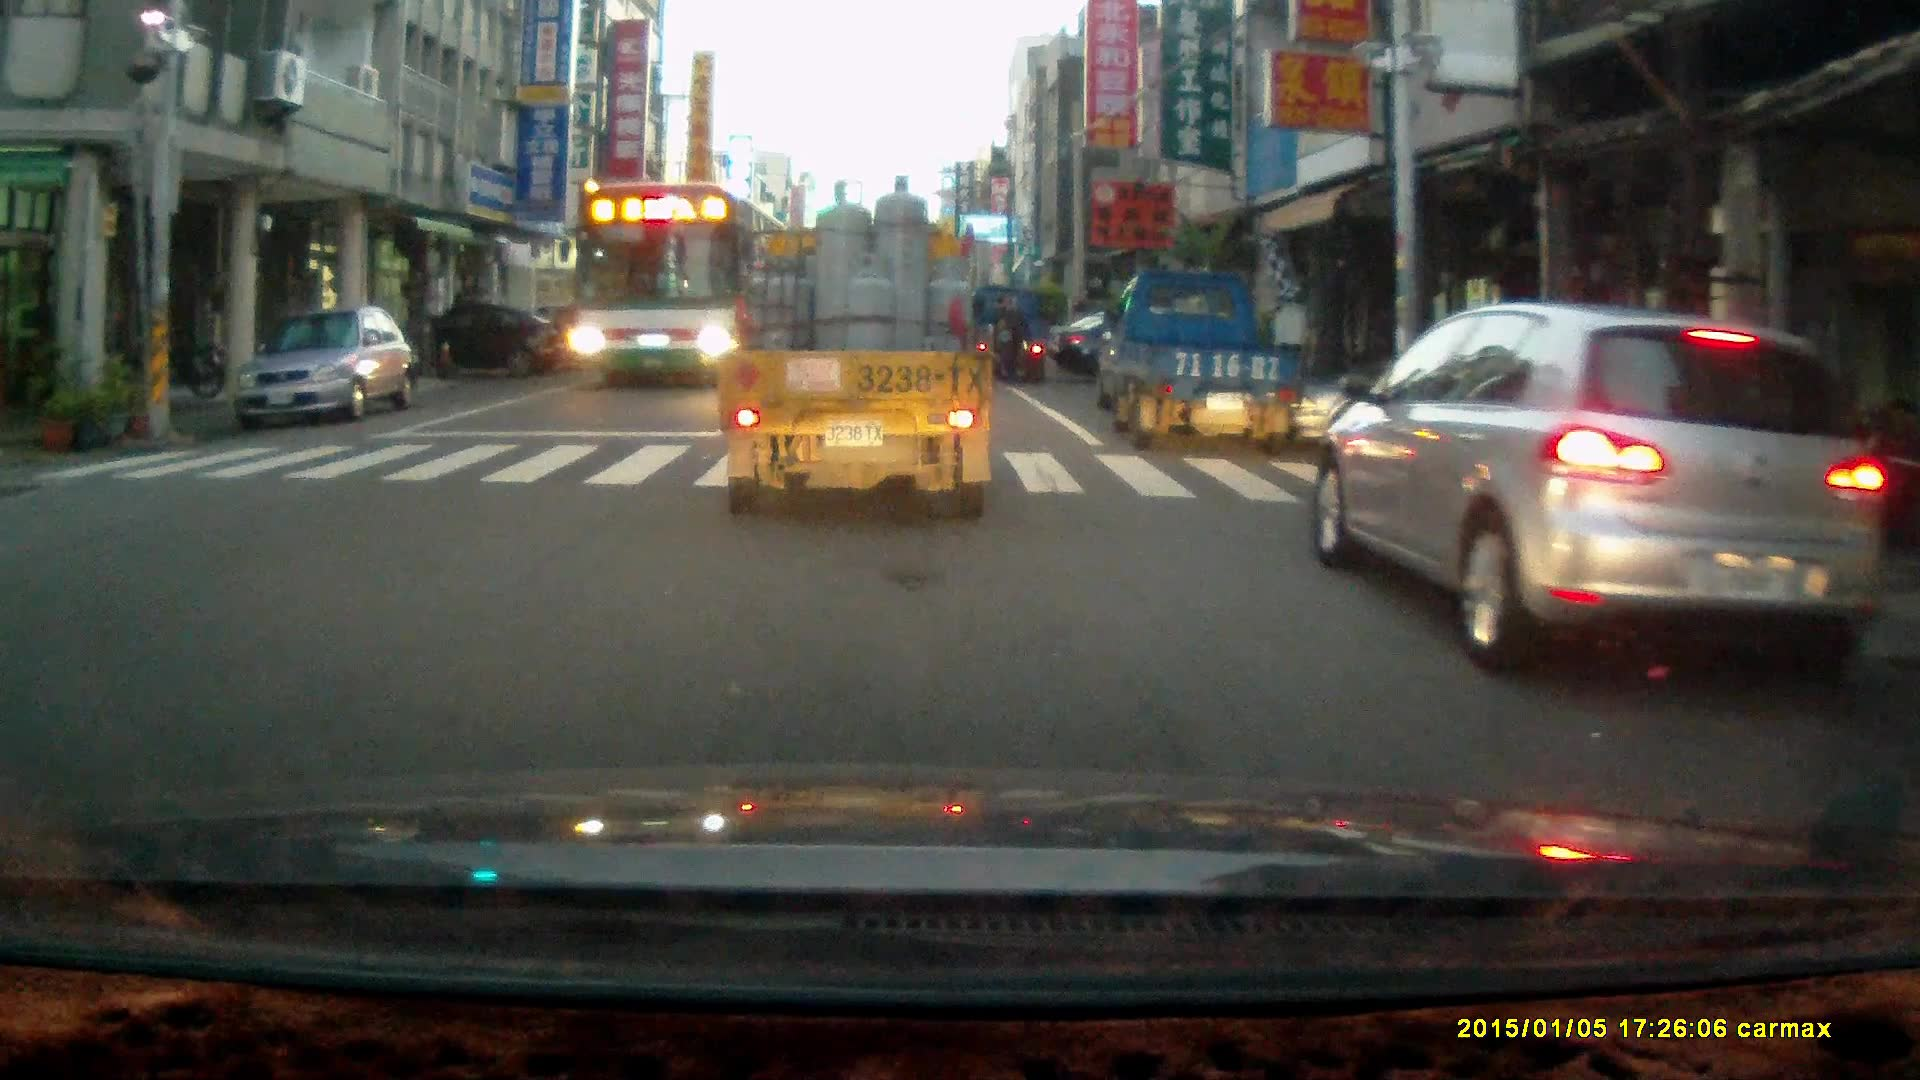pedestrian: (992, 288, 1032, 382)
vehicle: (1310, 297, 1875, 670), (723, 170, 998, 525), (562, 176, 776, 387), (1093, 261, 1300, 447), (225, 297, 421, 426), (400, 297, 568, 375), (969, 279, 1063, 386), (552, 292, 653, 365)
